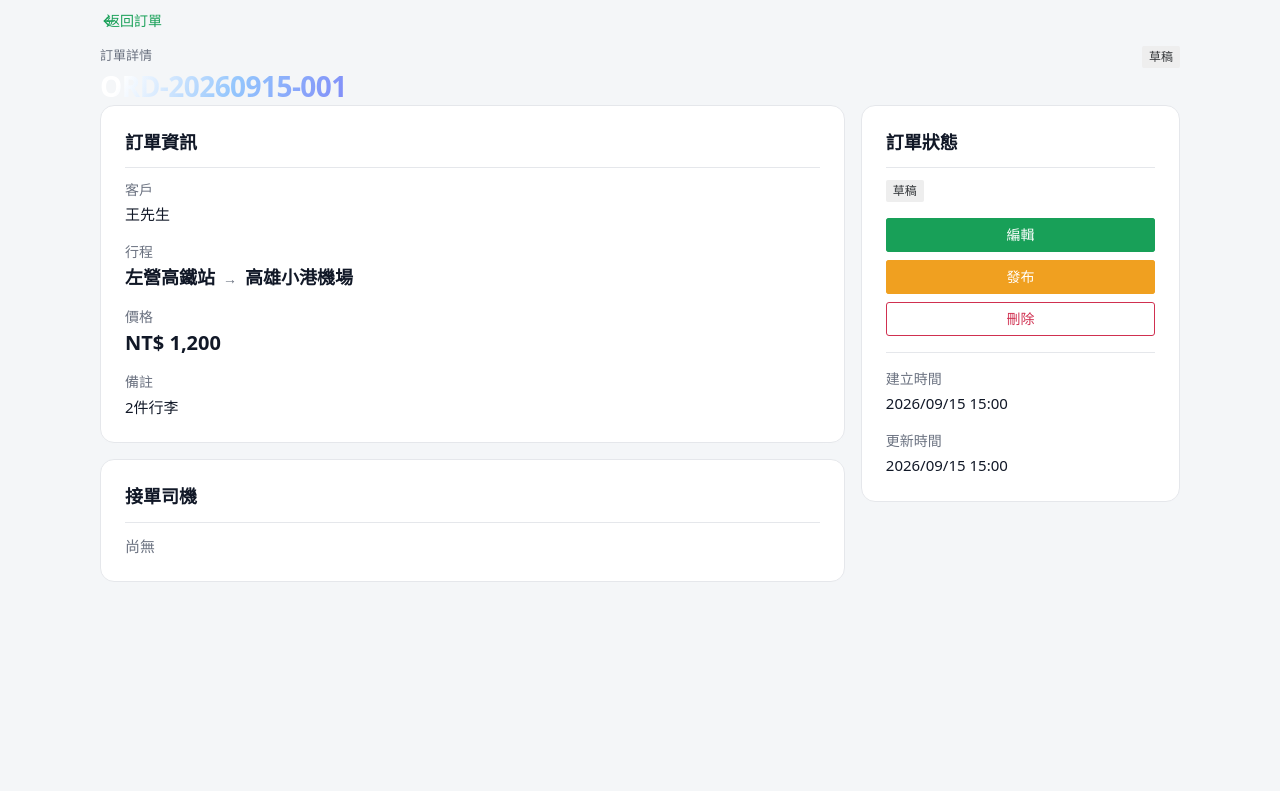
Test: OrderDetailView › shows edit validation and API errors
Click the button "編輯" at (1020, 235), box top-left (886, 218), bottom-right (1155, 252)
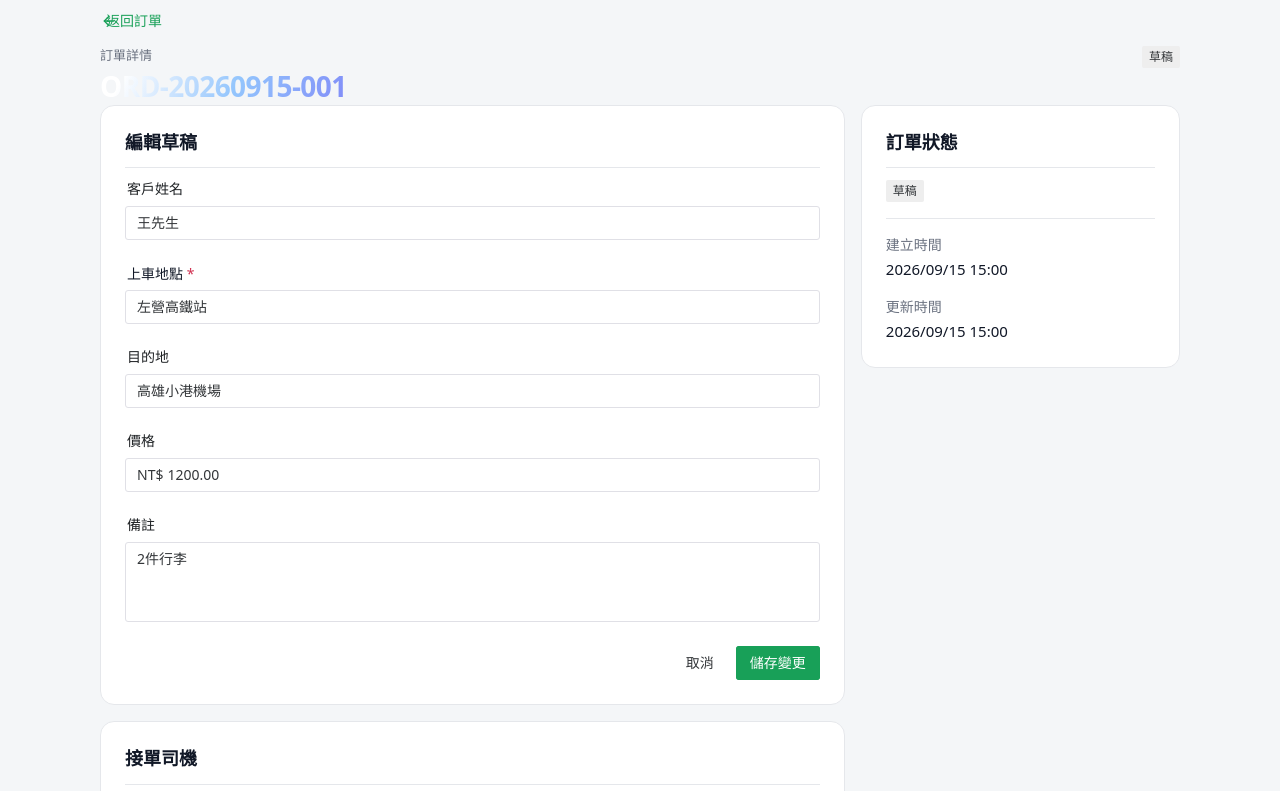
Clear the field with placeholder "例如 左營高鐵站" below "上車地點" at (472, 307), box top-left (137, 290), bottom-right (808, 324)
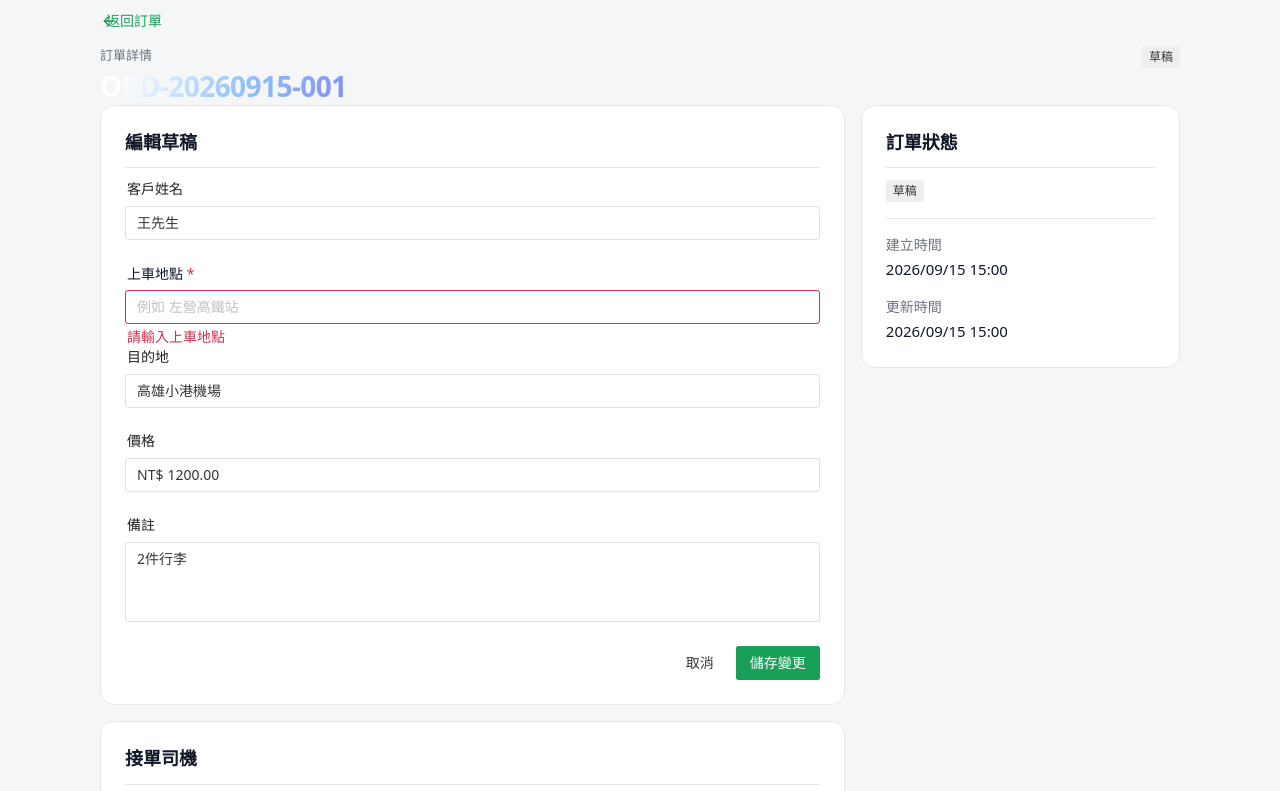
Submit the form, box top-left (125, 180), bottom-right (820, 680)
Result: the text "請輸入上車地點" is shown at top-left (127, 327), bottom-right (225, 346)
Type "左營高鐵站" into the field with placeholder "例如 左營高鐵站" at (472, 307), box top-left (137, 290), bottom-right (808, 324)
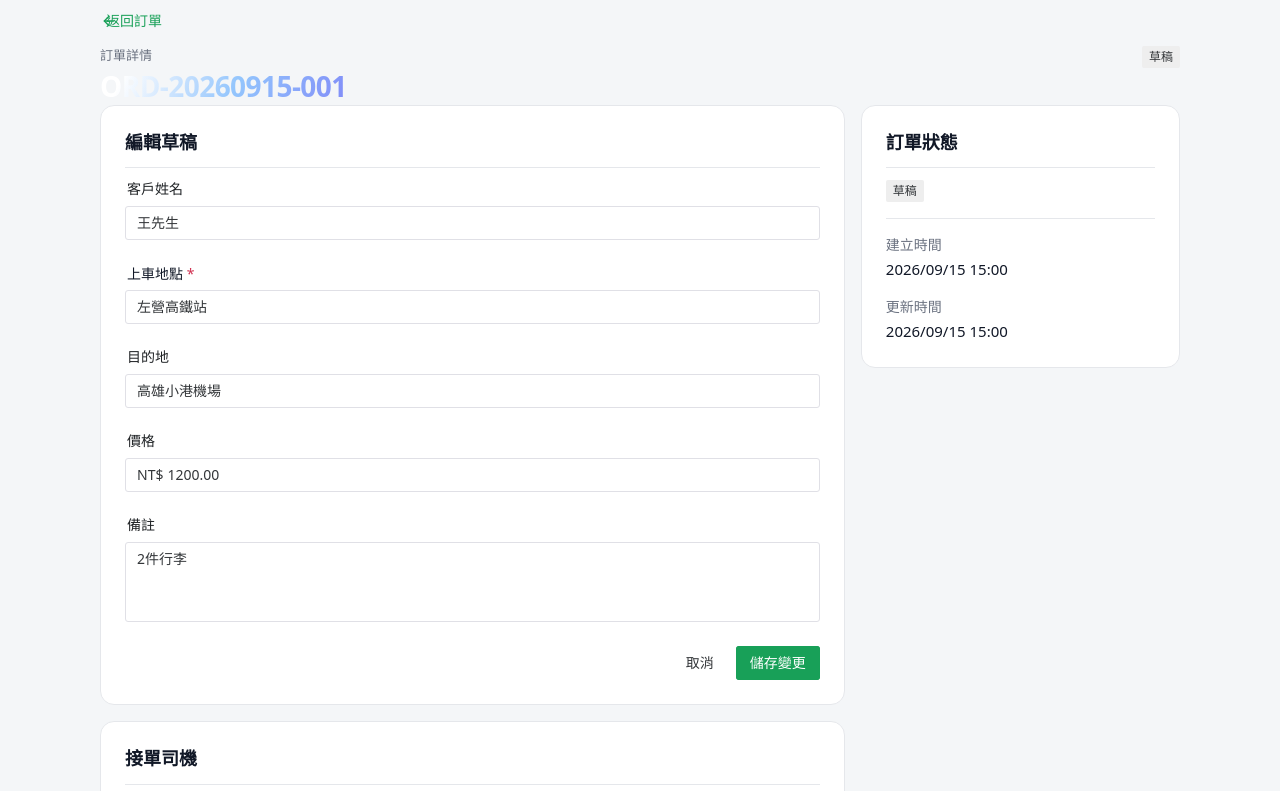
Submit the form, box top-left (125, 180), bottom-right (820, 680)
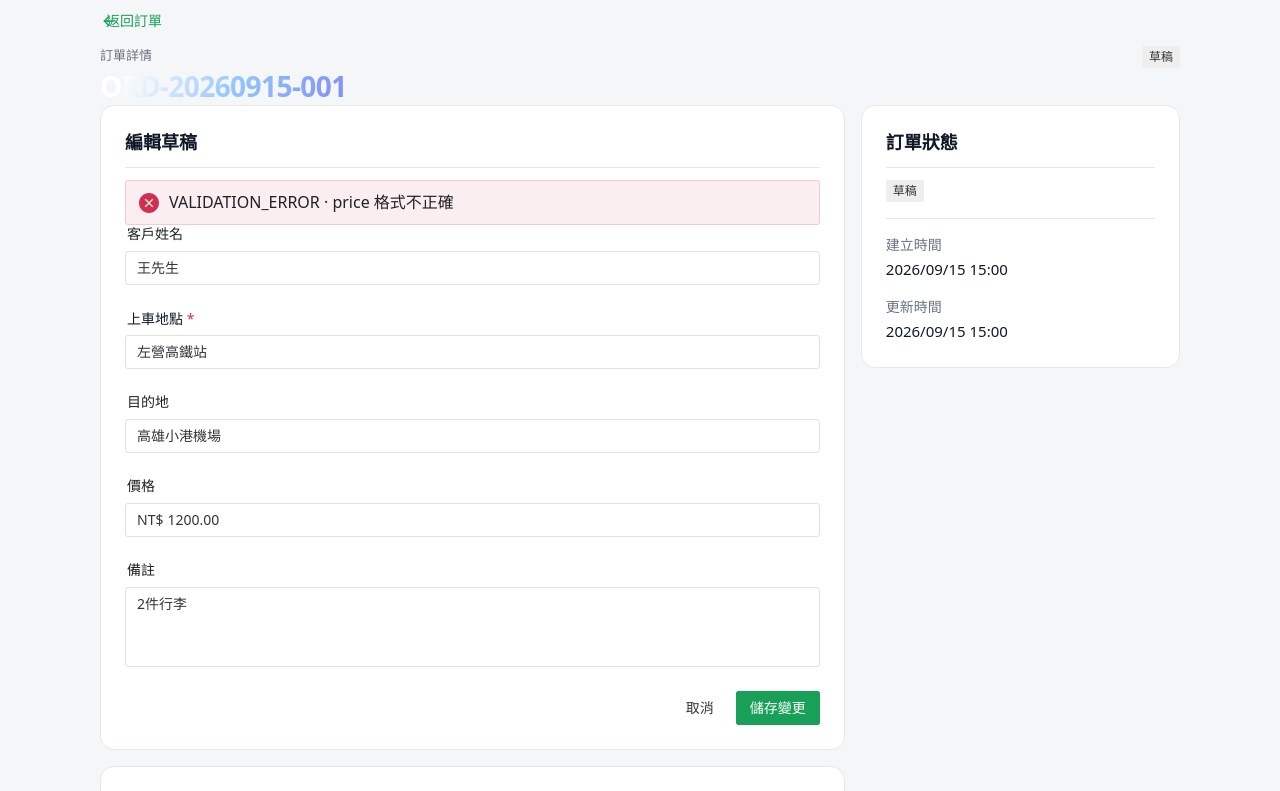
Result: the text "VALIDATION_ERROR" is shown at top-left (169, 191), bottom-right (454, 213)
Result: the text "price 格式不正確" is shown at top-left (169, 191), bottom-right (454, 213)
